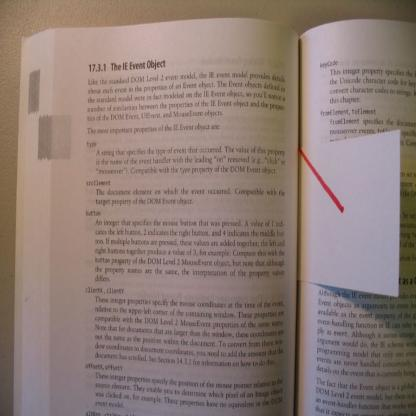book: (11, 33, 415, 415)
